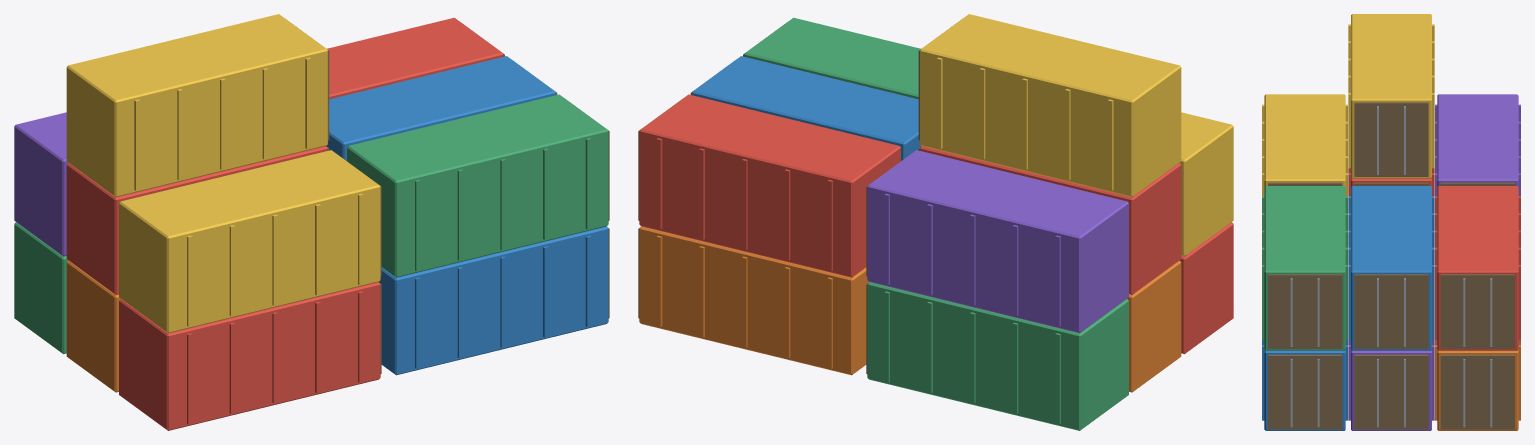
Rendered from bld_d1_c.glb.
The picture shows the model from 3 angles, left to right: view 1: azimuth 30°, elevation 25°; view 2: azimuth 150°, elevation 25°; view 3: azimuth 270°, elevation 25°; orthographic projection. The views are drawn at different scales.
Visible parts, largest first — view 1: bld_d1_c; view 2: bld_d1_c; view 3: bld_d1_c.
Part boxes in pixels (x1=…): bld_d1_c: x1=14, y1=14, x2=609, y2=430; bld_d1_c: x1=638, y1=14, x2=1233, y2=430; bld_d1_c: x1=1262, y1=14, x2=1520, y2=430.
Size of the model in its own units: 12.53 by 7.84 by 7.64.
